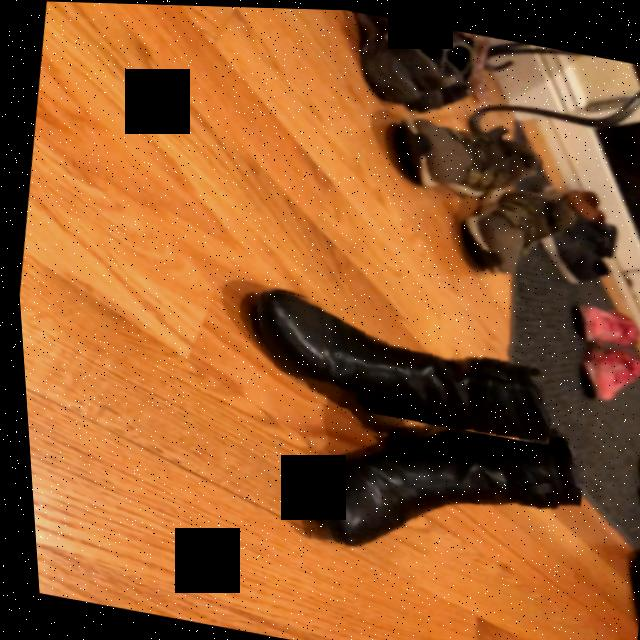shoe: (238, 290, 546, 438), (304, 415, 575, 547)
